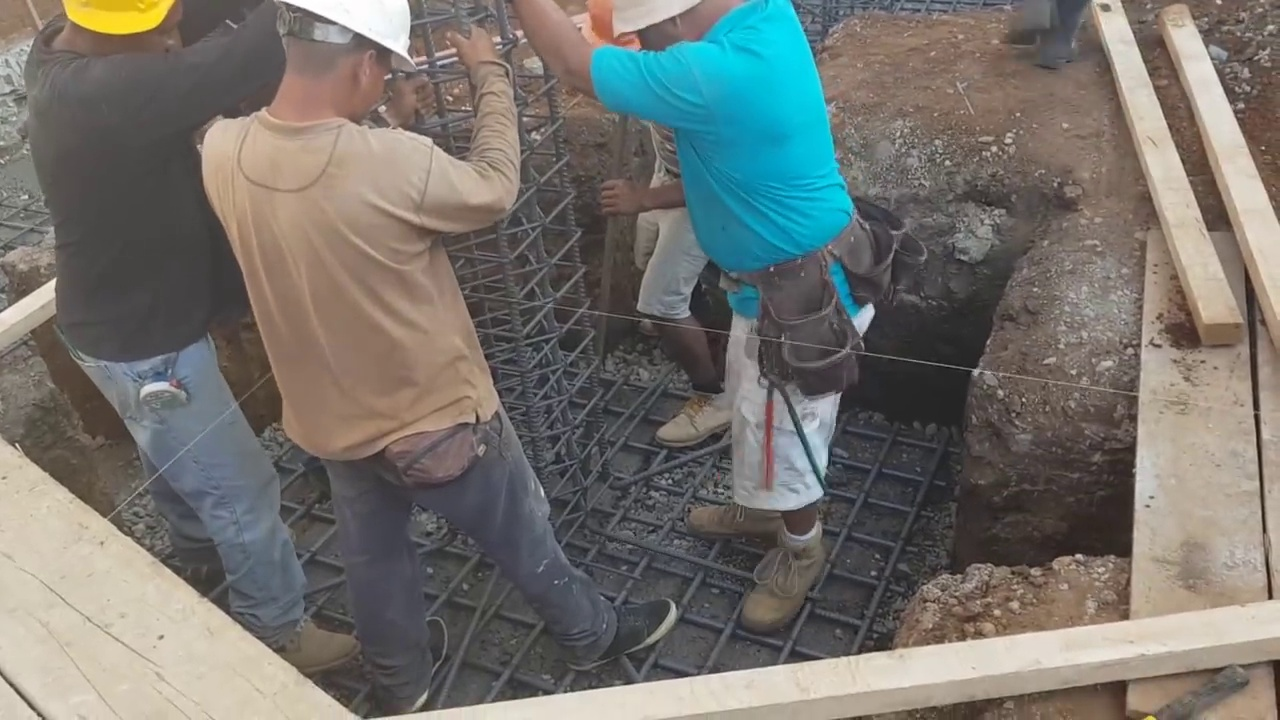helmet: (283, 4, 417, 76)
helmet-off: (610, 2, 741, 58)
helmet-on: (253, 3, 416, 129), (45, 0, 172, 69)
person: (199, 5, 678, 686), (518, 5, 883, 648), (31, 0, 368, 669), (588, 102, 743, 452)
